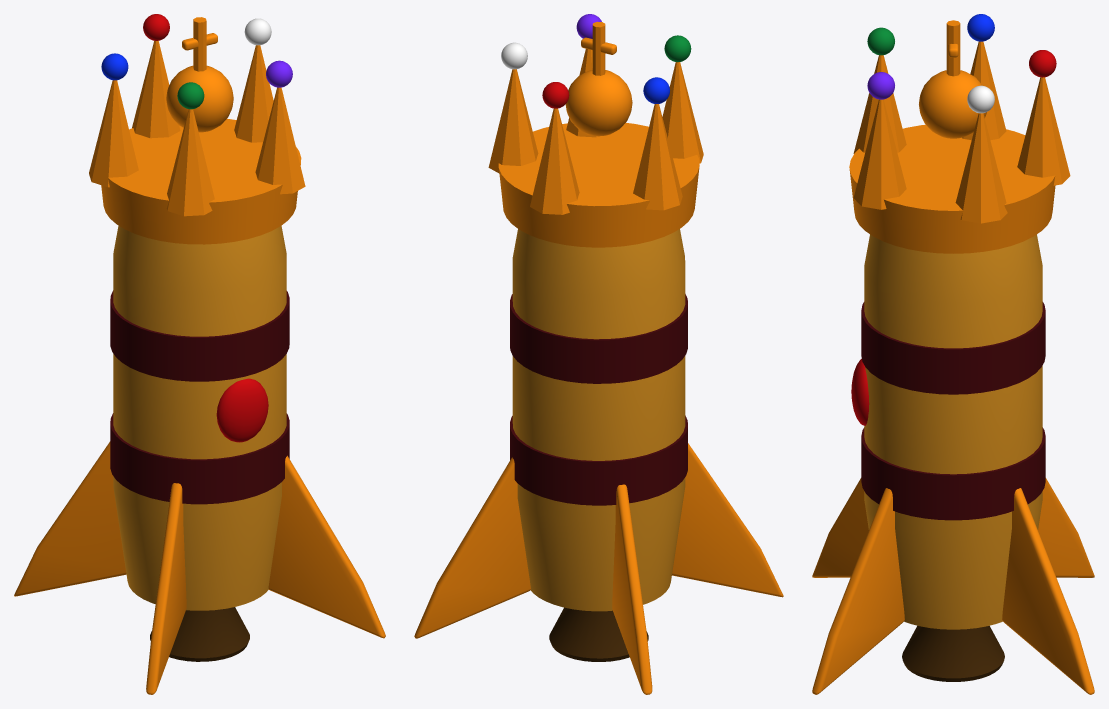
File: Rocket_37_RoyalCrown.obj
3 renders of one model, left to right at view 1: azimuth 30°, elevation 25°; view 2: azimuth 150°, elevation 25°; view 3: azimuth 270°, elevation 25°, orthographic. The views are drawn at different scales.
Parts seen in each view (by area): view 1: R37_Body, R37_CrownBase, R37_Fin_4, R37_Velvet_2, R37_Fin_2, R37_Velvet, R37_Fin_3, R37_Nozzle, R37_CrownSpike_3, R37_CrownSpike_4, R37_CrownSpike_2, R37_Orb (+9 smaller); view 2: R37_Body, R37_CrownBase, R37_Fin, R37_Velvet_2, R37_Fin_3, R37_Velvet, R37_Fin_2, R37_Orb, R37_Nozzle, R37_CrownSpike, R37_CrownSpike_2, R37_CrownSpike_5 (+6 smaller); view 3: R37_Body, R37_CrownBase, R37_Velvet_2, R37_Velvet, R37_Fin, R37_Fin_4, R37_Nozzle, R37_CrownSpike_5, R37_CrownSpike_4, R37_Orb, R37_CrownSpike, R37_Fin_2 (+10 smaller).
Part boxes in pixels (bbox=[...]): R37_Body: bbox=[113, 225, 286, 610]; R37_CrownBase: bbox=[101, 118, 301, 244]; R37_Fin_4: bbox=[268, 455, 385, 638]; R37_Velvet_2: bbox=[110, 290, 289, 381]; R37_Fin_2: bbox=[14, 441, 126, 596]; R37_Velvet: bbox=[110, 413, 289, 504]; R37_Fin_3: bbox=[146, 483, 186, 694]; R37_Nozzle: bbox=[150, 607, 249, 661]; R37_CrownSpike_3: bbox=[166, 109, 214, 216]; R37_CrownSpike_4: bbox=[255, 87, 305, 194]; R37_CrownSpike_2: bbox=[89, 80, 138, 187]; R37_Orb: bbox=[166, 65, 233, 132]; R37_Body: bbox=[512, 229, 685, 611]; R37_CrownBase: bbox=[498, 123, 699, 247]; R37_Fin: bbox=[414, 457, 530, 638]; R37_Velvet_2: bbox=[510, 294, 687, 383]; R37_Fin_3: bbox=[672, 443, 783, 597]; R37_Velvet: bbox=[510, 415, 687, 505]; R37_Fin_2: bbox=[612, 484, 652, 694]; R37_Orb: bbox=[565, 70, 632, 136]; R37_Nozzle: bbox=[549, 607, 648, 661]; R37_CrownSpike: bbox=[530, 108, 579, 214]; R37_CrownSpike_2: bbox=[633, 104, 682, 210]; R37_CrownSpike_5: bbox=[488, 69, 538, 173]; R37_Body: bbox=[864, 234, 1042, 629]; R37_CrownBase: bbox=[849, 124, 1055, 253]; R37_Velvet_2: bbox=[861, 302, 1045, 394]; R37_Velvet: bbox=[861, 427, 1045, 520]; R37_Fin: bbox=[1002, 488, 1094, 694]; R37_Fin_4: bbox=[812, 488, 904, 694]; R37_Nozzle: bbox=[902, 625, 1004, 681]; R37_CrownSpike_5: bbox=[955, 113, 1007, 223]; R37_CrownSpike_4: bbox=[853, 99, 906, 209]; R37_Orb: bbox=[919, 70, 986, 138]; R37_CrownSpike: bbox=[1017, 77, 1070, 185]; R37_Fin_2: bbox=[1038, 478, 1094, 577].
Size of the model in its own units: 2.85 by 7.1 by 2.85.
